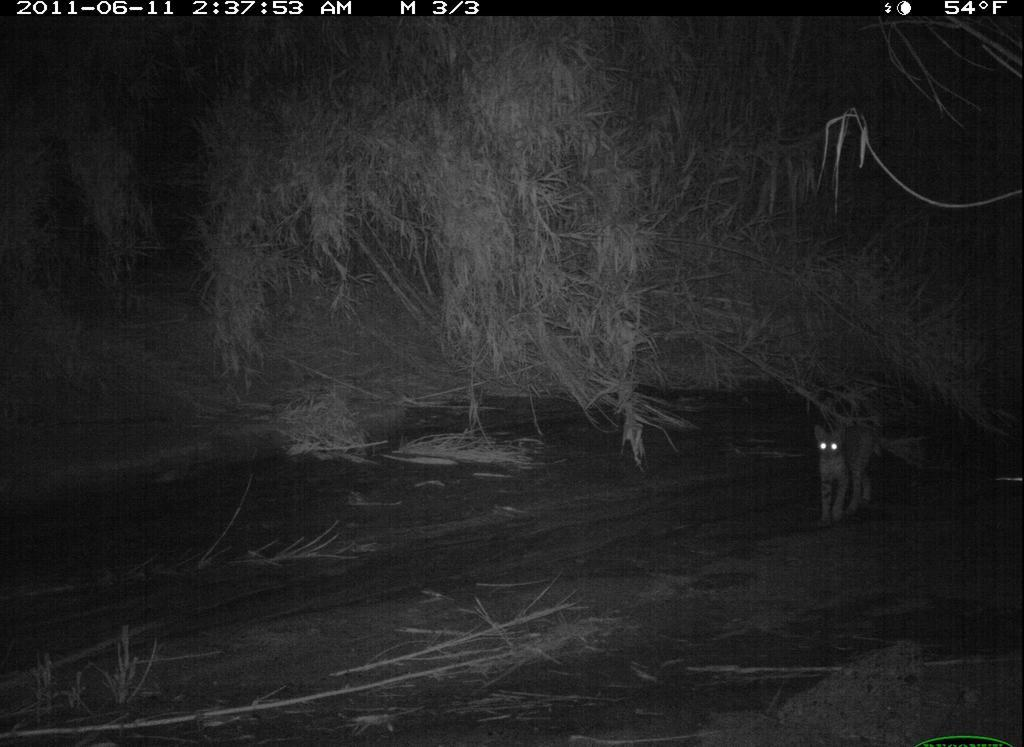bobcat: (808, 401, 903, 529)
